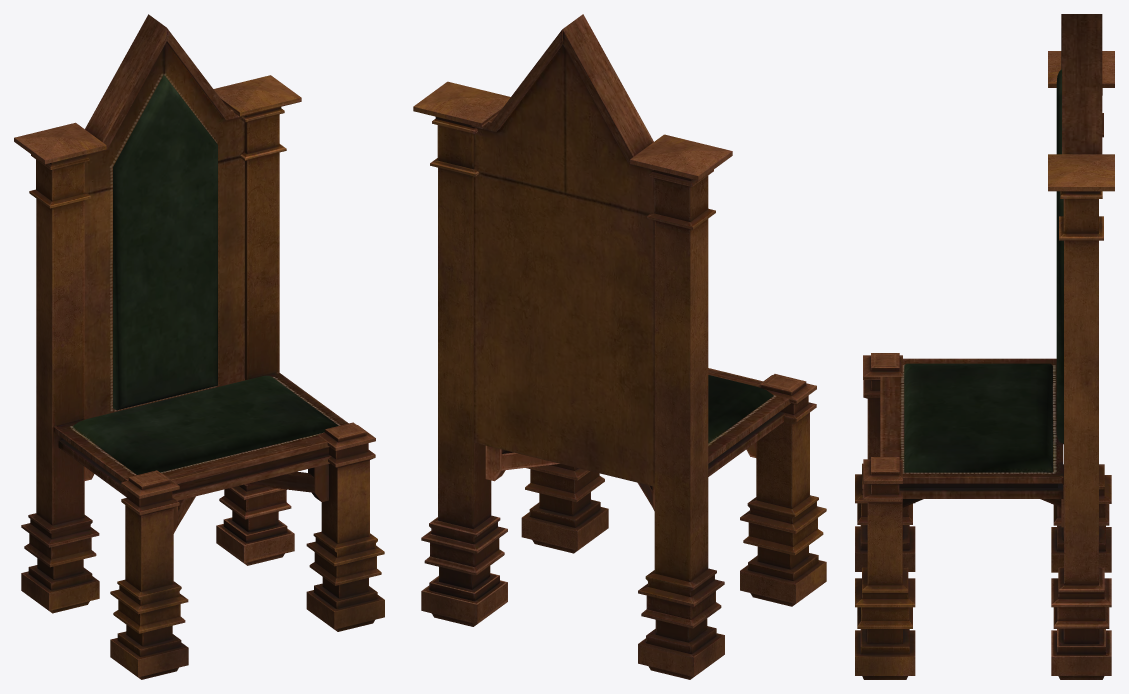
The model's file is teacher-chair.glb.
The picture shows the model from 3 angles, left to right: view 1: azimuth 30°, elevation 25°; view 2: azimuth 150°, elevation 25°; view 3: azimuth 270°, elevation 25°; orthographic projection. The views are drawn at different scales.
Visible parts, largest first — view 1: LP1_Material #25_0, LP2_Material #26_0; view 2: LP2_Material #26_0, LP1_Material #25_0; view 3: LP1_Material #25_0, LP2_Material #26_0.
Boxes of the visible parts, box(x1,y1,x2,y2) form: LP1_Material #25_0: box(14, 75, 348, 613); LP2_Material #26_0: box(82, 14, 384, 679); LP2_Material #26_0: box(471, 14, 826, 606); LP1_Material #25_0: box(413, 81, 790, 679); LP1_Material #25_0: box(880, 51, 1114, 679); LP2_Material #26_0: box(855, 14, 1102, 679).
Size of the model in its own units: 0.8435 by 1.75 by 0.6815.
2 materials, 2 textured.
